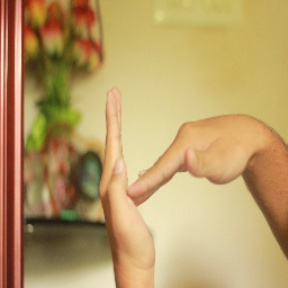Z: (97, 72, 257, 268)
